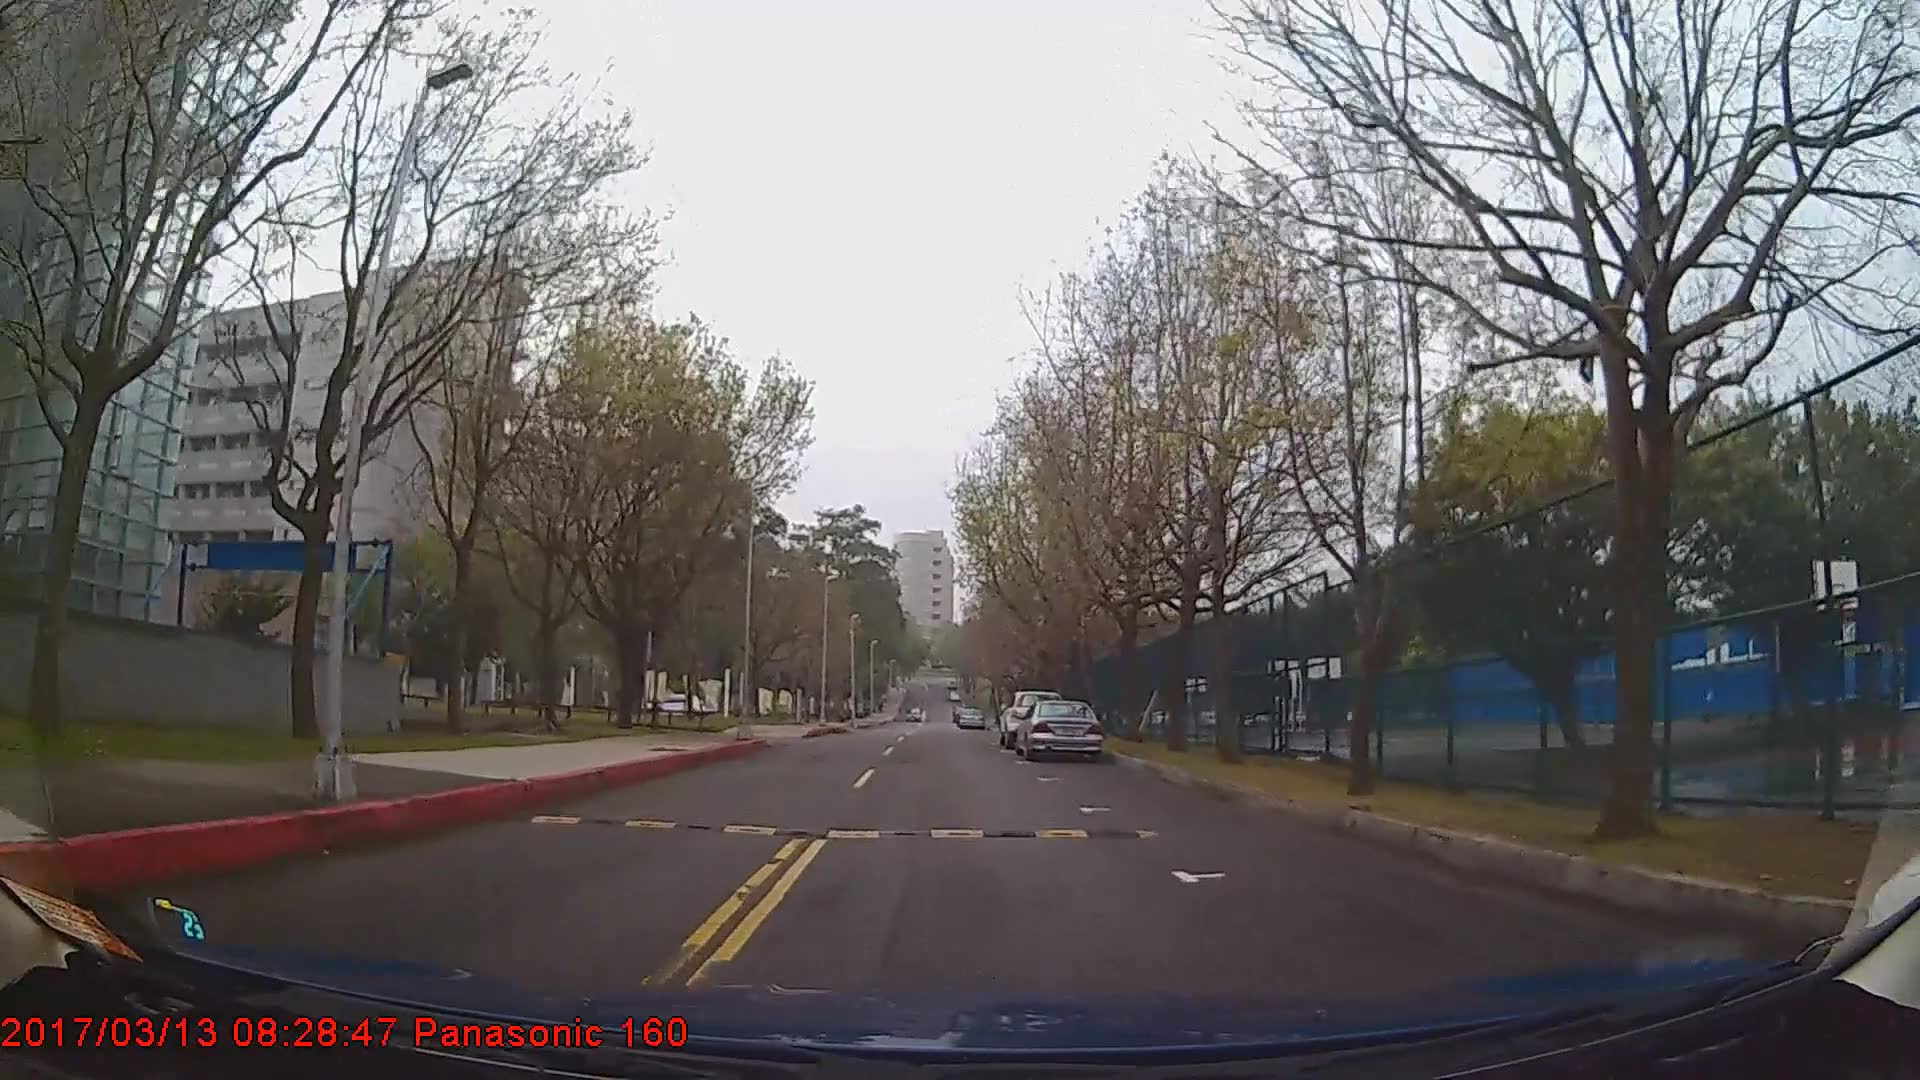vehicle: (1014, 696, 1105, 758), (1000, 687, 1064, 748), (953, 705, 989, 728)
